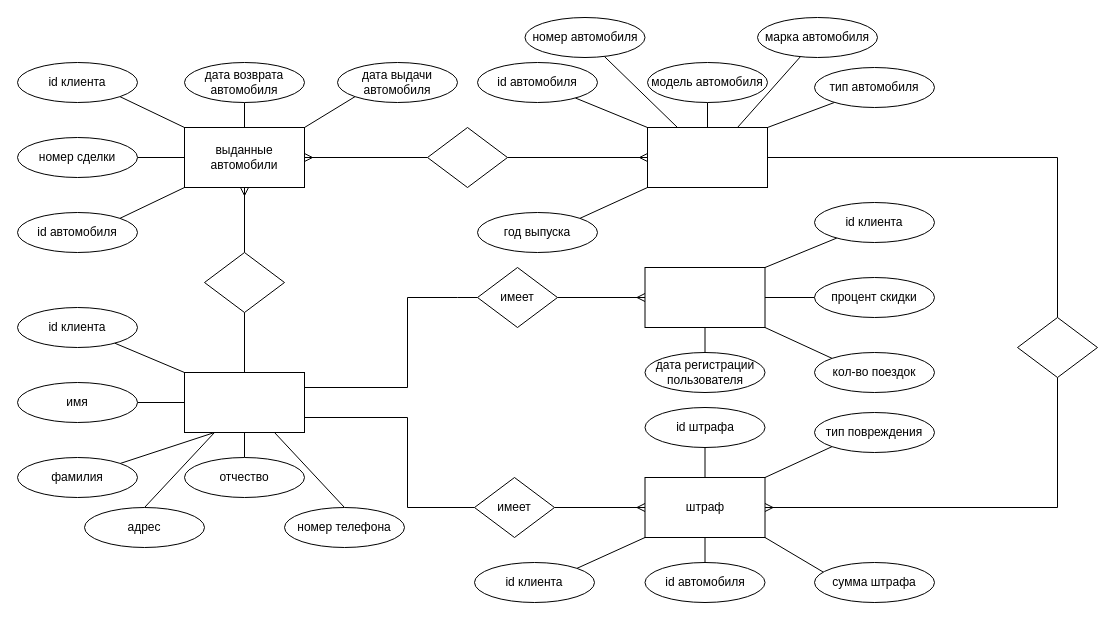
The diagram is 1115 pixels wide and 621 high, and some of its shapes have lost their labels. Each missing label, with the centre of its shape:
автомобиль: the point at 707,157
арендует: the point at 244,282
были арендовны: the point at 467,157
клиент: the point at 244,402
получен на: the point at 1057,347
скидки: the point at 704,297
